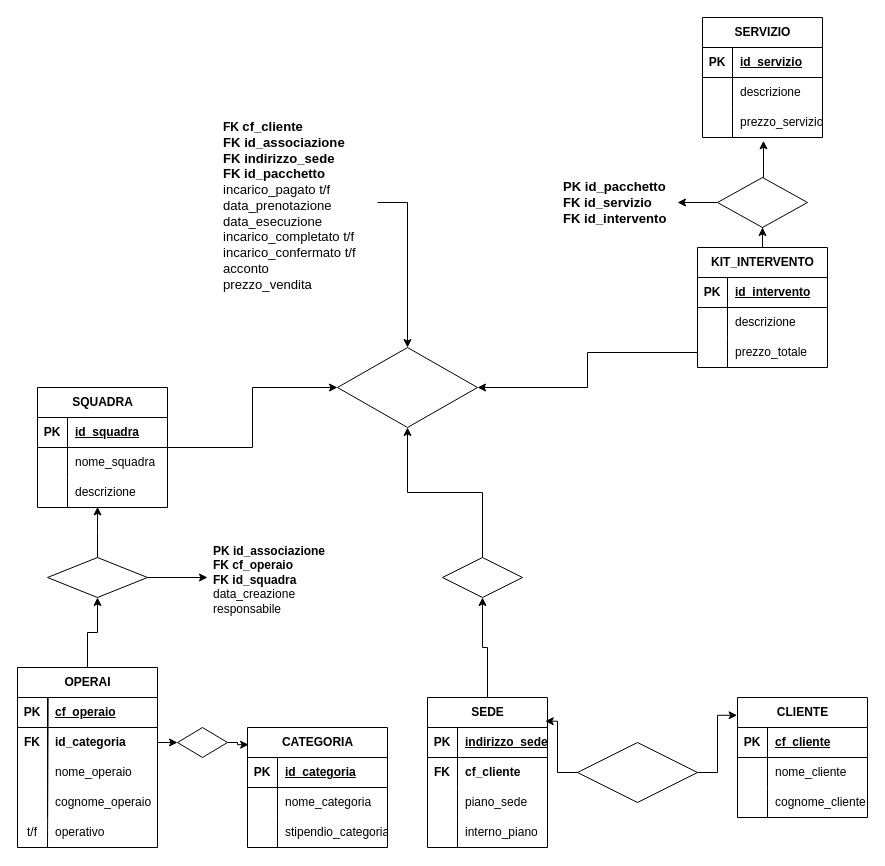
Some shapes in this 885 by 866 pixel diagram are drawn without their labels. The shapes that lost their labels are listed below. From the top down, each one's centre as x and y in pixels, then its label:
the point at 762,202: pacchetto comprende
the point at 407,387: ESEGUE
the point at 97,577: è formato
the point at 637,772: appartiene
